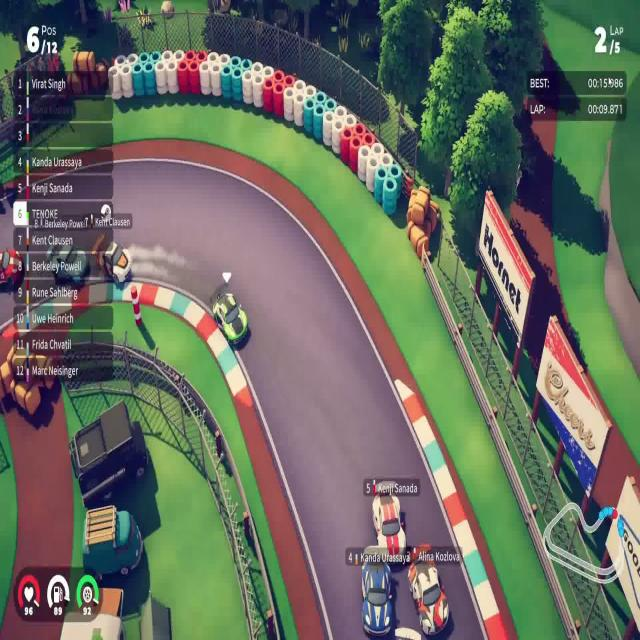car: (406, 544, 449, 636), (360, 546, 393, 636), (370, 491, 408, 566), (212, 290, 248, 348)
